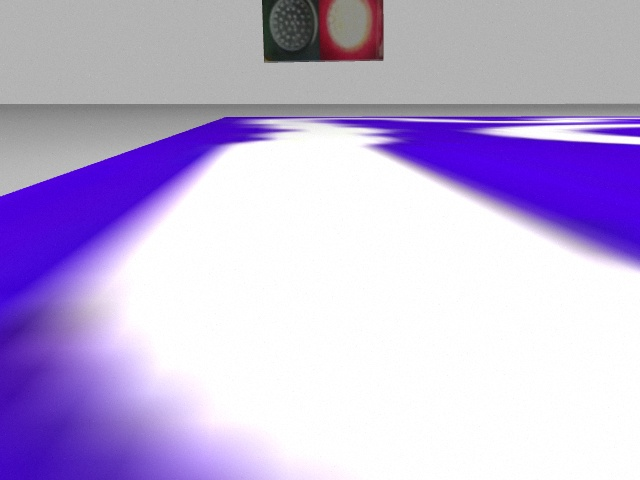red: (321, 1, 386, 61)
